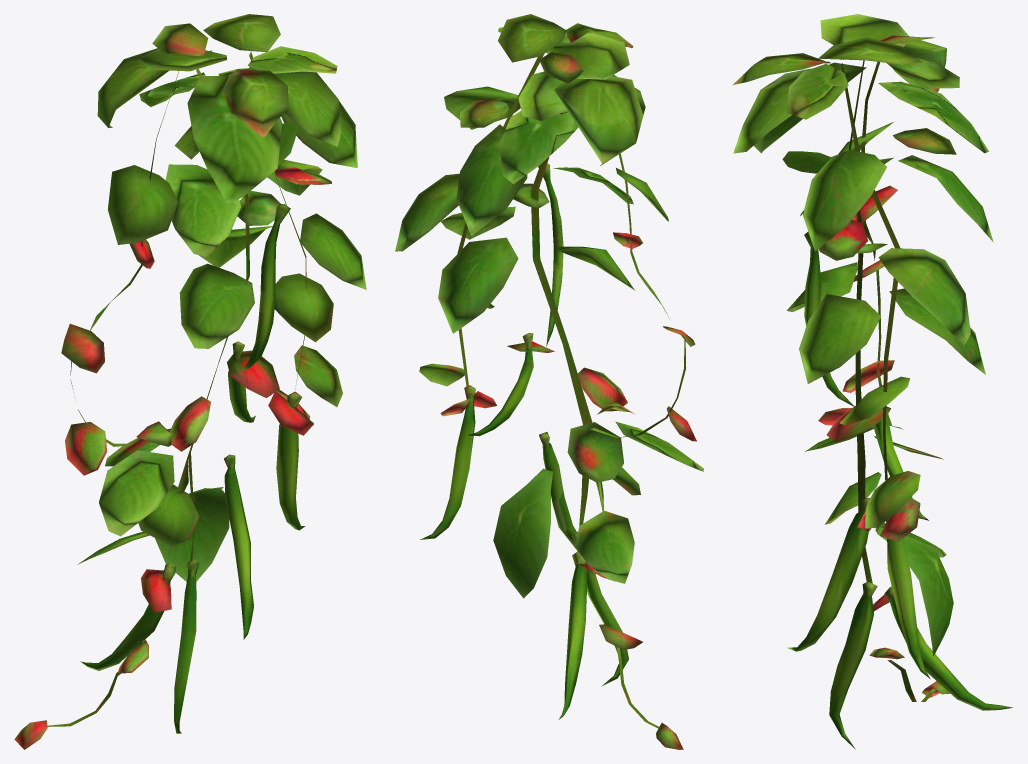
File: crop-beans.glb
The picture shows the model from 3 angles, left to right: view 1: azimuth 30°, elevation 25°; view 2: azimuth 150°, elevation 25°; view 3: azimuth 270°, elevation 25°; orthographic projection. The views are drawn at different scales.
Parts seen in each view (by area): view 1: plant, fruit; view 2: plant, fruit; view 3: plant, fruit.
Boxes of the visible parts, <box> form: plant: <box>47,14,366,733</box>; fruit: <box>14,65,331,749</box>; plant: <box>395,14,703,728</box>; fruit: <box>440,76,696,749</box>; plant: <box>733,14,1012,749</box>; fruit: <box>818,135,949,697</box>.
Bounding box in the file's own units: 0.4024 × 0.9 × 0.305.
Materials: 1 (1 with a texture image).
